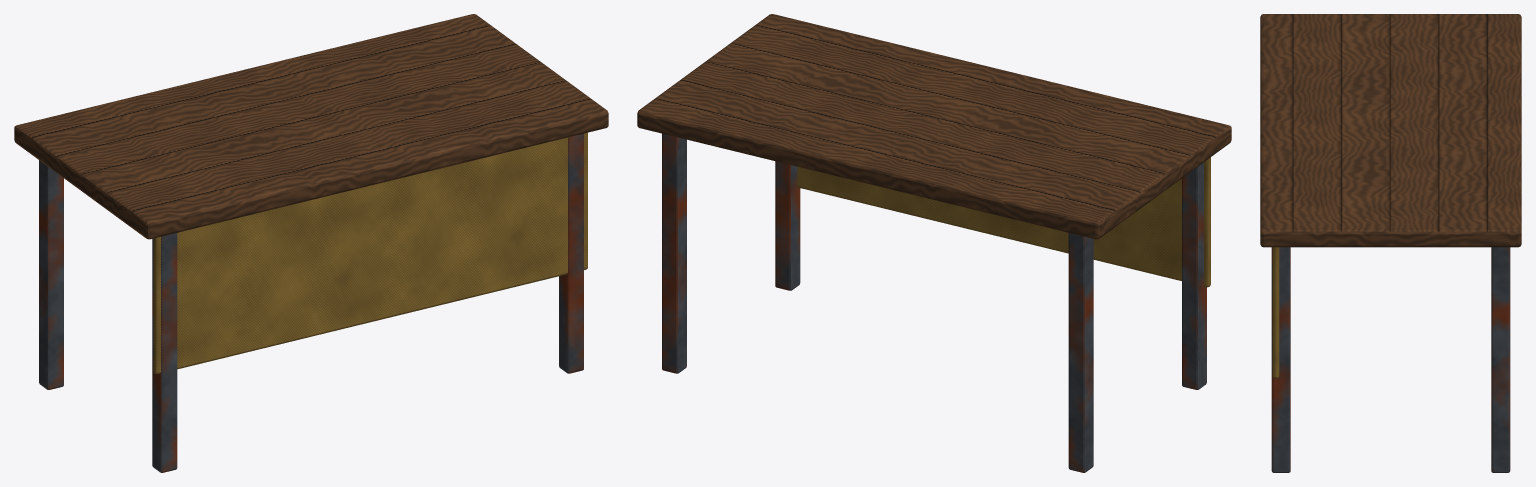
The model's file is desk_hide.glb.
3 views of the same model, side by side, from view 1: azimuth 30°, elevation 25°; view 2: azimuth 150°, elevation 25°; view 3: azimuth 270°, elevation 25° (orthographic). The views are drawn at different scales.
Parts seen in each view (by area): view 1: TableTop, BackDrape, Leg_-0.836_0.40319999999999995, Leg_-0.836_-0.40319999999999995, Leg_0.836_-0.40319999999999995; view 2: TableTop, BackDrape, Leg_-0.836_0.40319999999999995, Leg_0.836_0.40319999999999995, Leg_-0.836_-0.40319999999999995, Leg_0.836_-0.40319999999999995; view 3: TableTop, Leg_0.836_0.40319999999999995, Leg_0.836_-0.40319999999999995, BackDrape.
Boxes of the visible parts, bbox=[...] form: TableTop: bbox=[14, 14, 608, 239]; BackDrape: bbox=[153, 132, 587, 373]; Leg_-0.836_0.40319999999999995: bbox=[39, 160, 63, 389]; Leg_-0.836_-0.40319999999999995: bbox=[152, 233, 177, 472]; Leg_0.836_-0.40319999999999995: bbox=[559, 133, 583, 373]; TableTop: bbox=[637, 14, 1231, 239]; BackDrape: bbox=[797, 157, 1210, 287]; Leg_-0.836_0.40319999999999995: bbox=[1068, 233, 1093, 472]; Leg_0.836_0.40319999999999995: bbox=[662, 133, 686, 373]; Leg_-0.836_-0.40319999999999995: bbox=[1182, 162, 1206, 389]; Leg_0.836_-0.40319999999999995: bbox=[775, 161, 800, 290]; TableTop: bbox=[1260, 14, 1521, 247]; Leg_0.836_0.40319999999999995: bbox=[1491, 247, 1510, 472]; Leg_0.836_-0.40319999999999995: bbox=[1271, 247, 1290, 472]; BackDrape: bbox=[1272, 247, 1279, 378].
Size of the model in its own units: 1.9 by 1.02 by 0.96.
3 materials, 3 textured.
